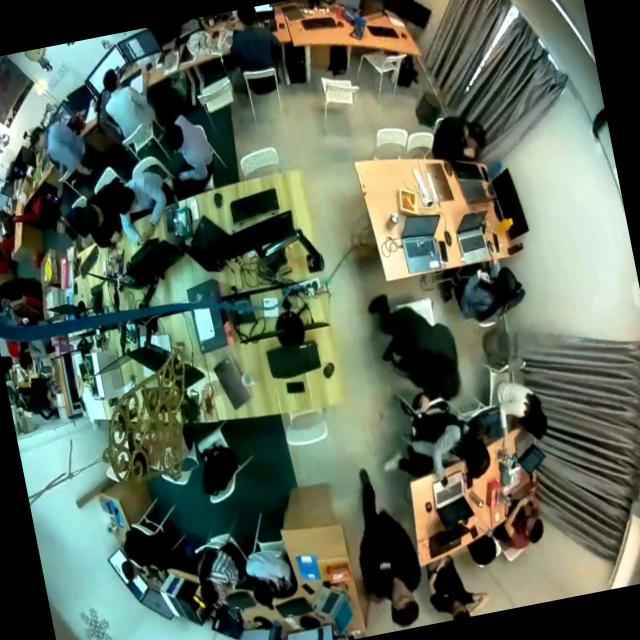employee_tag: (378, 560, 392, 572)
